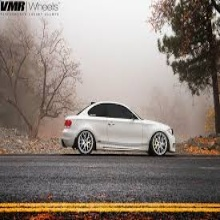no damage: (61, 101, 176, 158)
